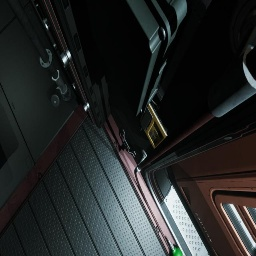0: (168, 238, 184, 256)
EmergencyPhone ,: (138, 96, 171, 149)
